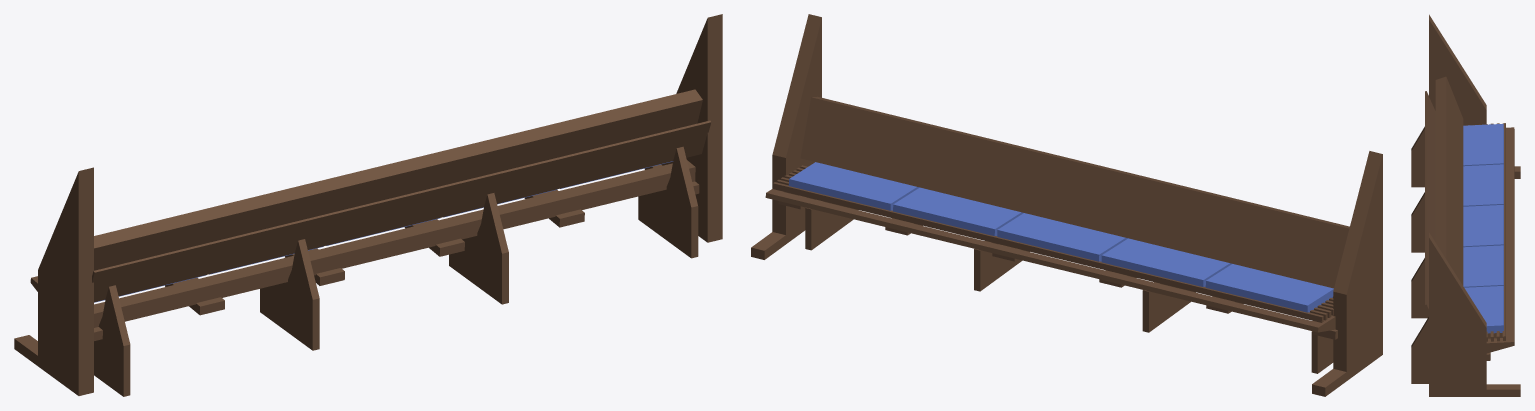
File: churchPew.fbx
3 renders of one model, left to right at view 1: azimuth 30°, elevation 25°; view 2: azimuth 150°, elevation 25°; view 3: azimuth 270°, elevation 25°, orthographic. The views are drawn at different scales.
Visible parts, largest first — view 1: Pew; view 2: Pew; view 3: Pew.
Part boxes in pixels (box(x1,y1,x2,y2)): Pew: box(14, 14, 722, 396); Pew: box(751, 14, 1382, 396); Pew: box(1411, 14, 1520, 396).
Size of the model in its own units: 1060 by 354 by 219.
